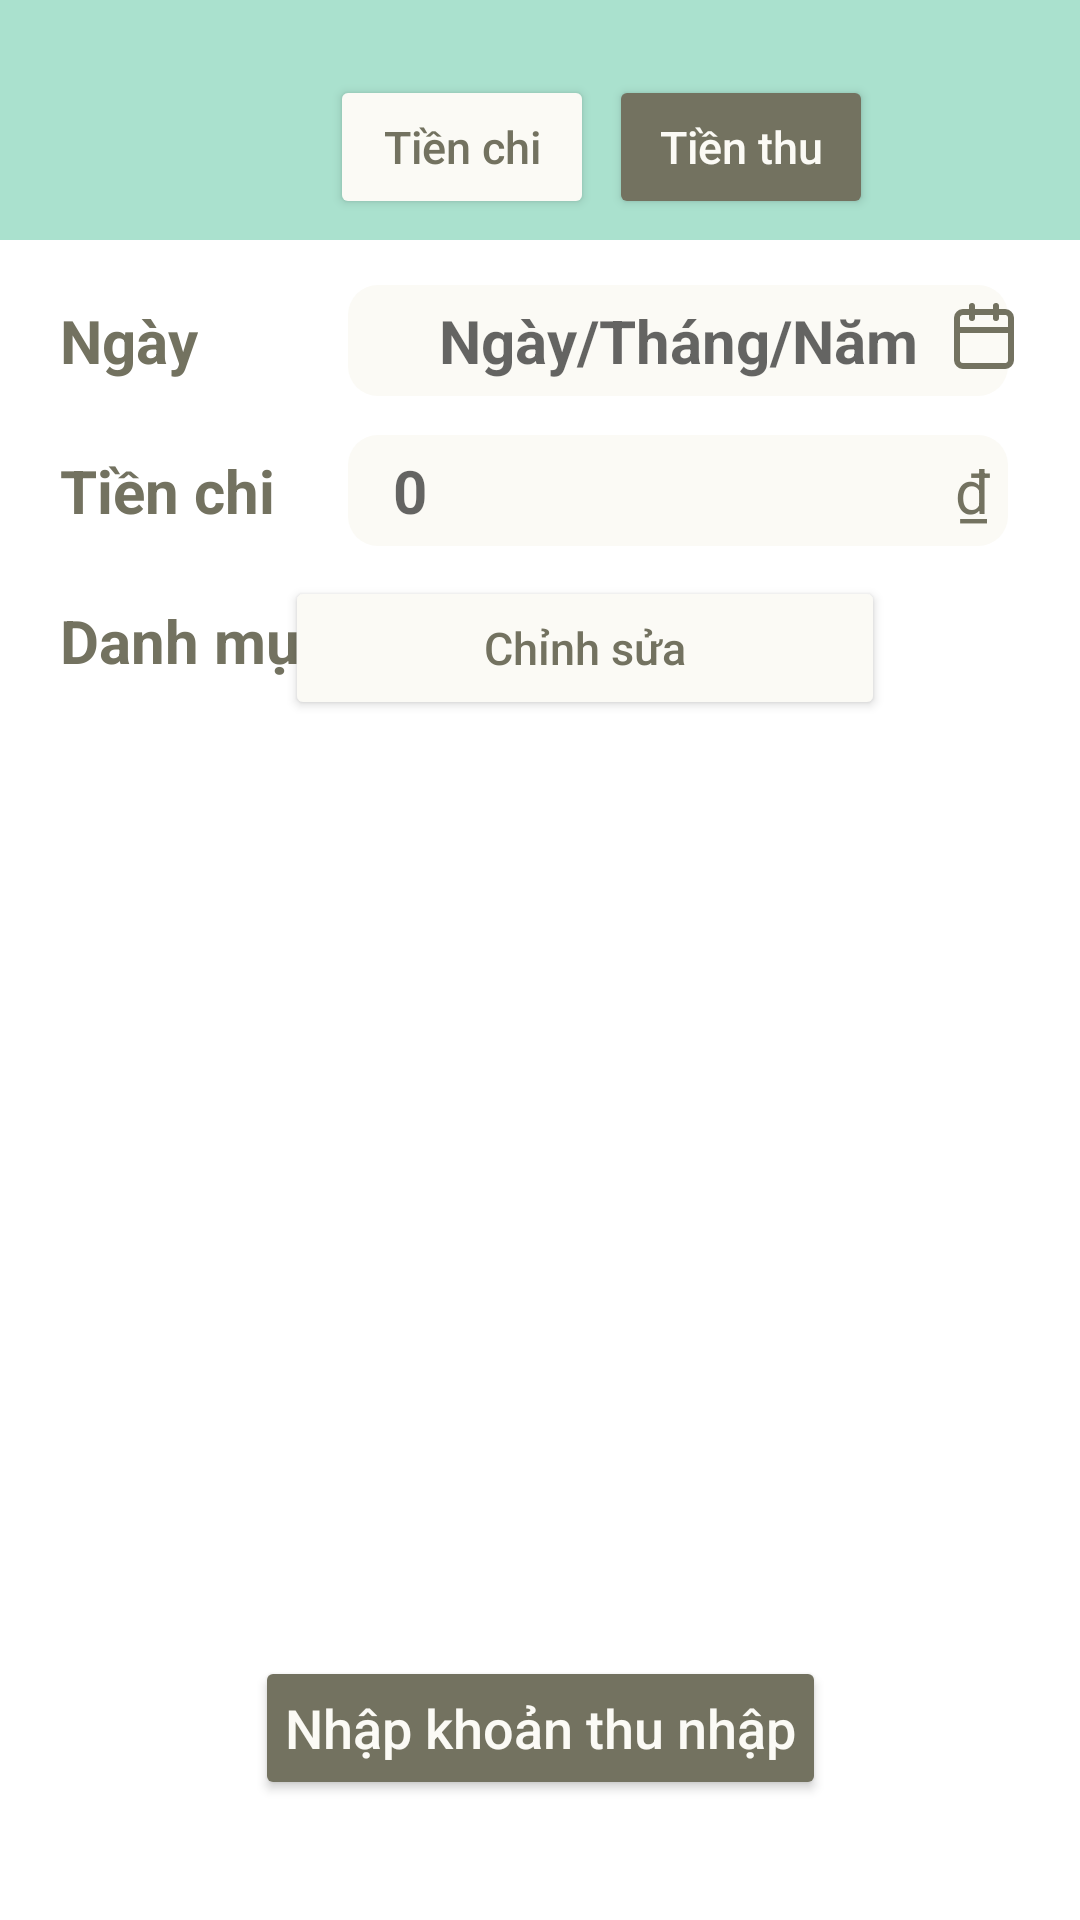

Point at icon controls on the screen. Image size 1080 x 1920, points as [x,y].
calender: [984,336]
